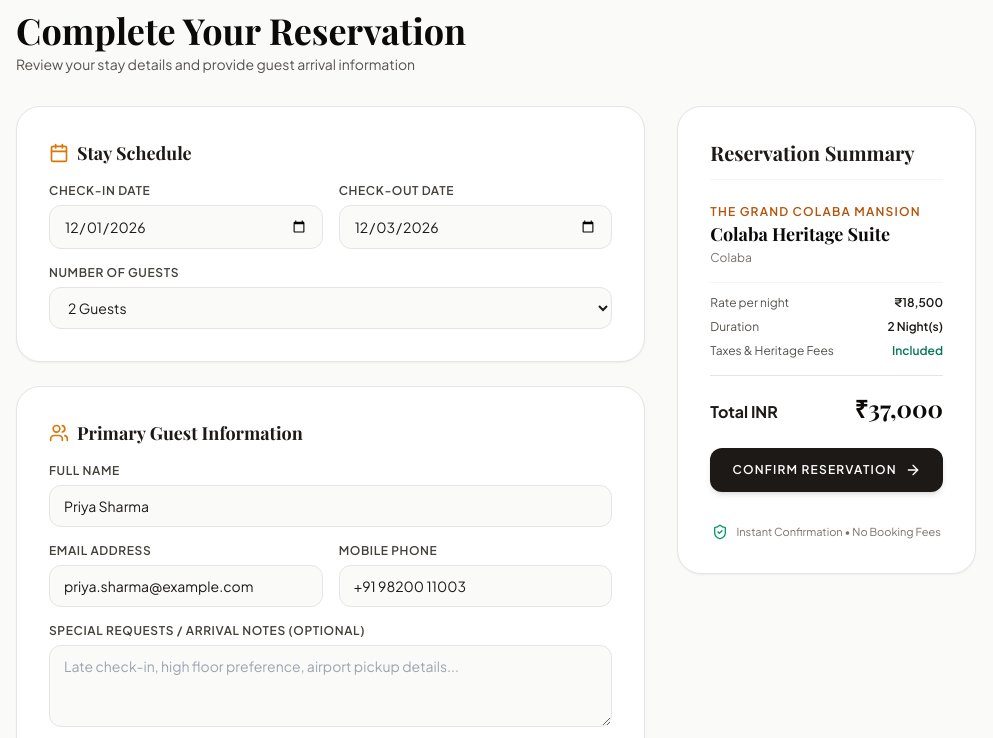
BookingFlowPage Component - Form Validation & Reservation Flow › successfully submits valid booking and renders confirmation screen
Click the button "Confirm Reservation": coordinates (827, 470) [710,448,943,492]
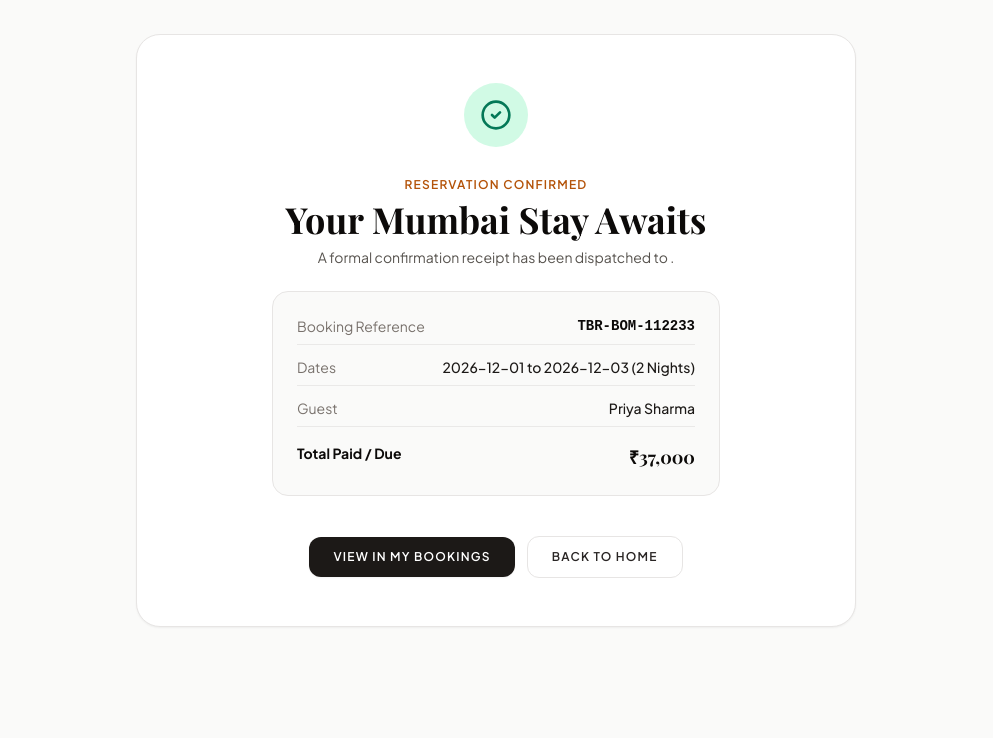
Check: the text "TBR-BOM-112233" is shown, box [577,316,695,336]
Check: the heading "Your Mumbai Stay Awaits" is shown, box [286,195,706,243]
